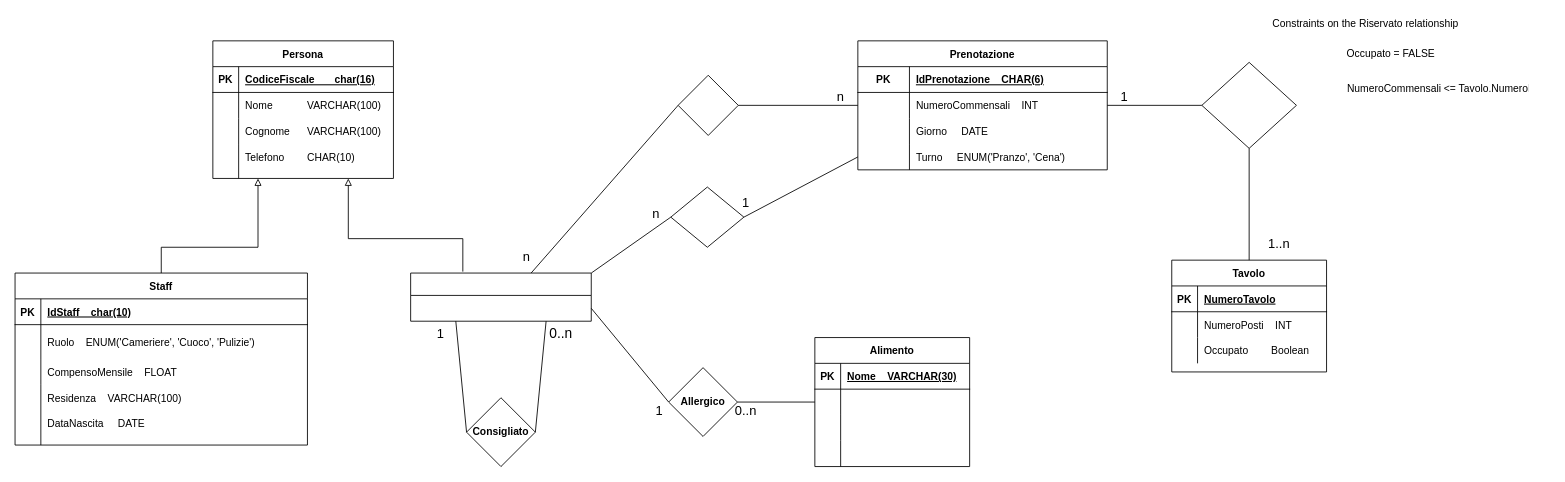
This 1565x482 diagram has some shape labels left out. The shapes that lost their labels are listed below. From the top down, each one's centre as x and y in pixels, then its label:
pixel 707 104: Effettuata
pixel 1248 104: Riservato
pixel 707 216: Riferita
pixel 500 296: Cliente
